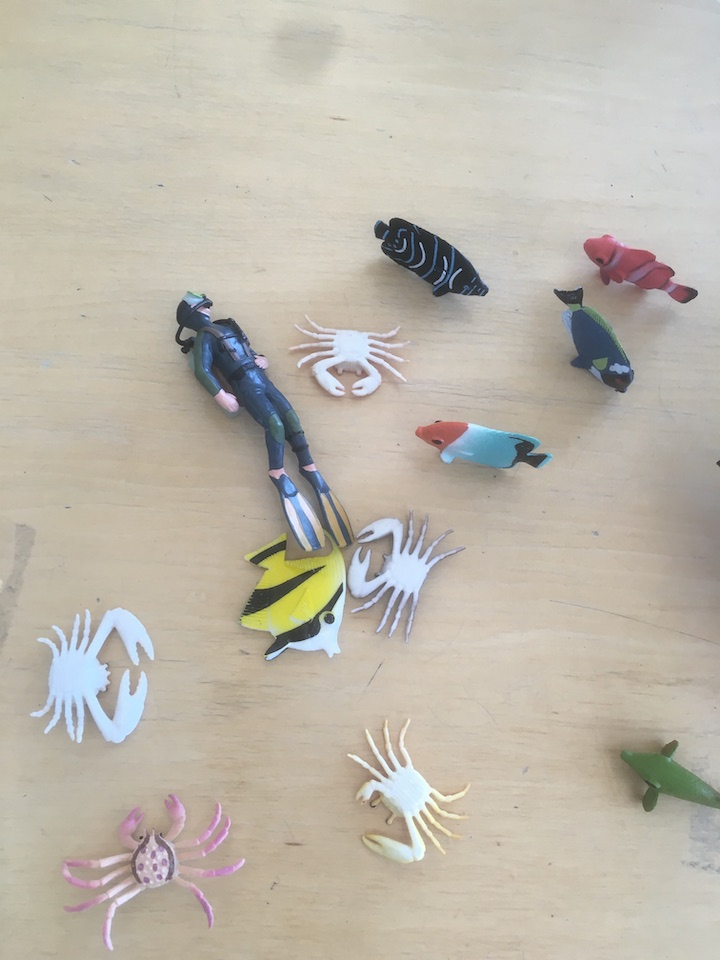crab: (54, 788, 250, 956), (343, 708, 474, 867), (28, 601, 160, 750), (346, 506, 468, 643), (281, 306, 410, 401)
danger: (237, 533, 350, 664)
diver: (168, 286, 361, 555)
fish: (366, 212, 497, 302), (550, 286, 641, 399), (577, 230, 702, 309), (410, 415, 555, 480), (617, 736, 720, 819)
